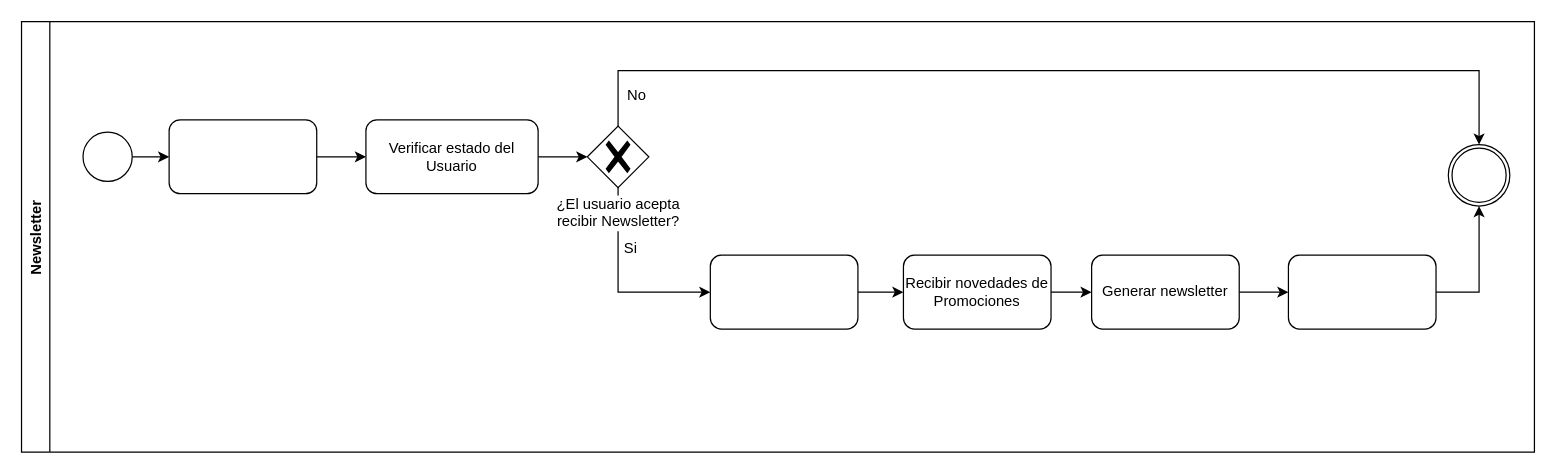
This 1556x474 diagram has some shape labels left out. The shapes that lost their labels are listed below. From the top down, each one's box as (x1, y1, x2, y2) in pixels, then its label:
(168, 119, 317, 194): Recibir listado de usuarios por parte de Manejo de Usuario
(709, 254, 858, 329): Generar listado de usuarios activos
(1287, 254, 1436, 329): Enviar newsletter a activos
